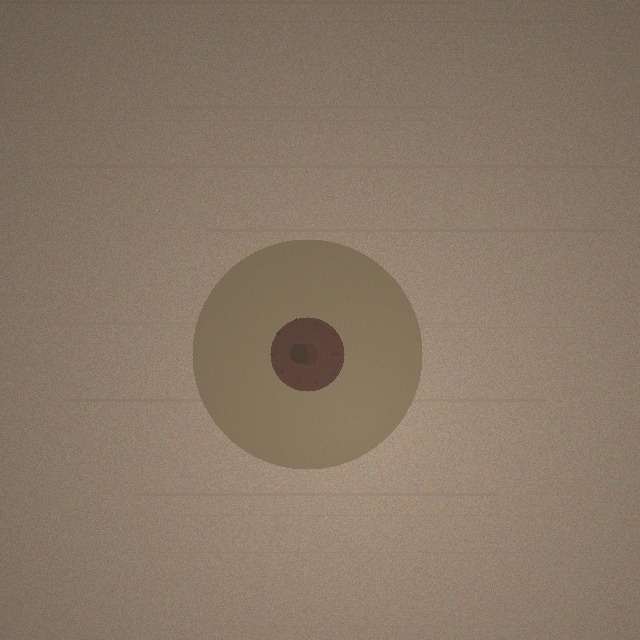cold_weld: (192, 239, 422, 469)
